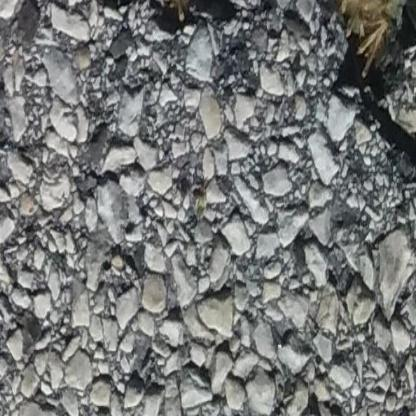Cracks: (300, 0, 416, 100), (94, 0, 253, 39)
